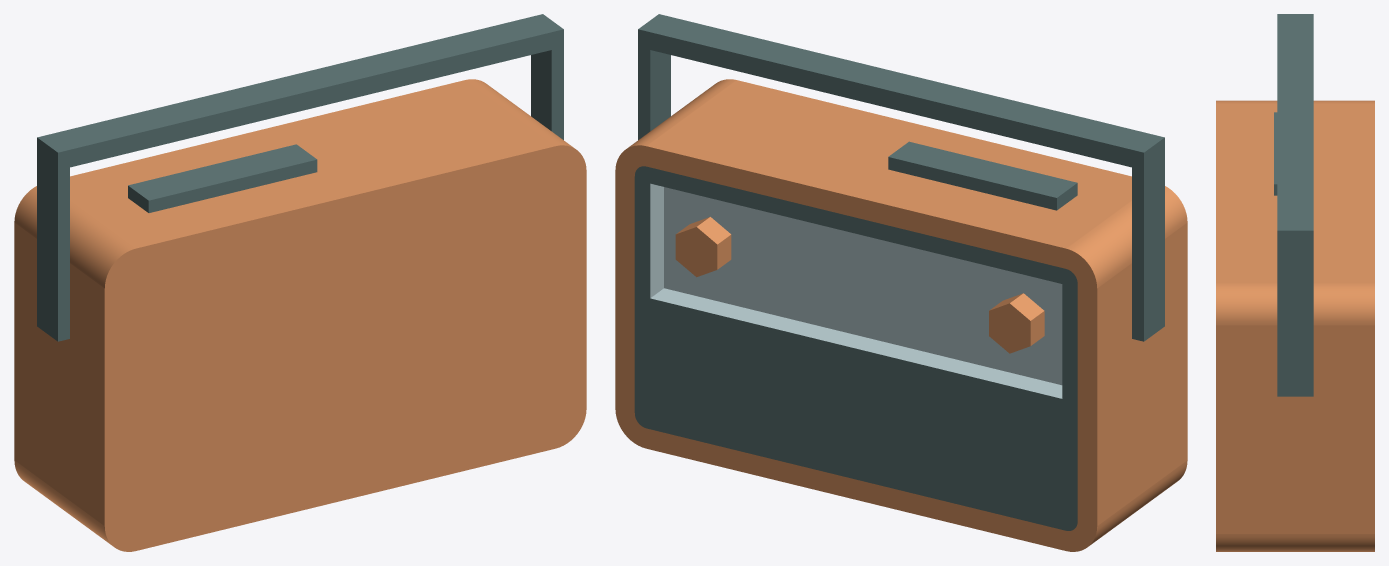
The model's file is radio.obj.
3 renders of one model, left to right at view 1: azimuth 30°, elevation 25°; view 2: azimuth 150°, elevation 25°; view 3: azimuth 270°, elevation 25°, orthographic. The views are drawn at different scales.
Visible parts, largest first — view 1: mergedBlocks; view 2: mergedBlocks; view 3: mergedBlocks.
Part boxes in pixels (x1,y1,x2,y2): mergedBlocks: (14, 14, 586, 551); mergedBlocks: (615, 14, 1187, 551); mergedBlocks: (1216, 14, 1374, 551).
Size of the model in its own units: 0.315 by 0.2282 by 0.0975.
